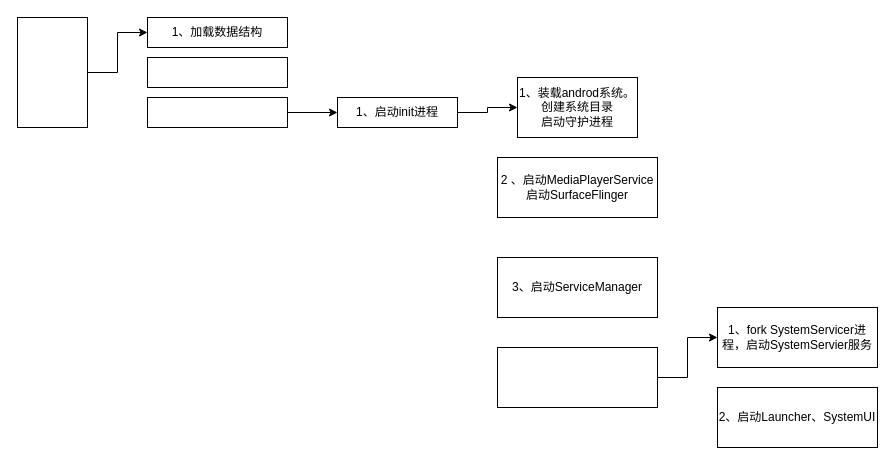
This 895x465 diagram has some shape labels left out. Here are the shapes that lost their labels. From the top down, the centre of each, then its label:
point 52,72: 启动bootloader
point 217,72: 2、初始化硬件
point 217,112: 3、启动Linux内核
point 577,377: 4、fork进程zygote进程
